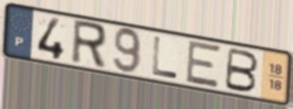4: (35, 15, 67, 61)
9: (111, 26, 144, 77)
B: (222, 46, 261, 94)
E: (184, 39, 224, 90)
L: (150, 35, 180, 81)
R: (69, 18, 109, 72)
